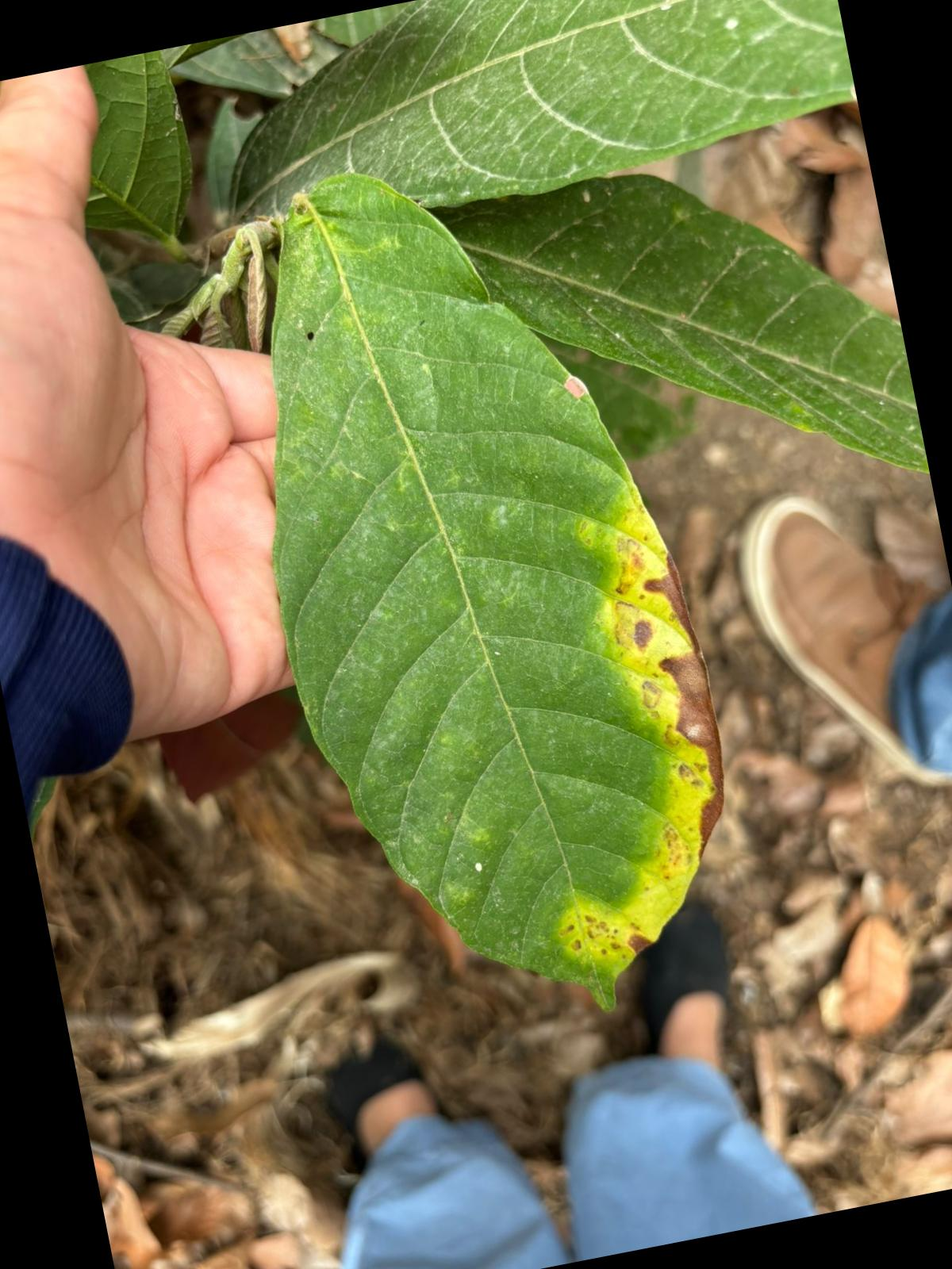Potasio: (272, 174, 721, 1007)
